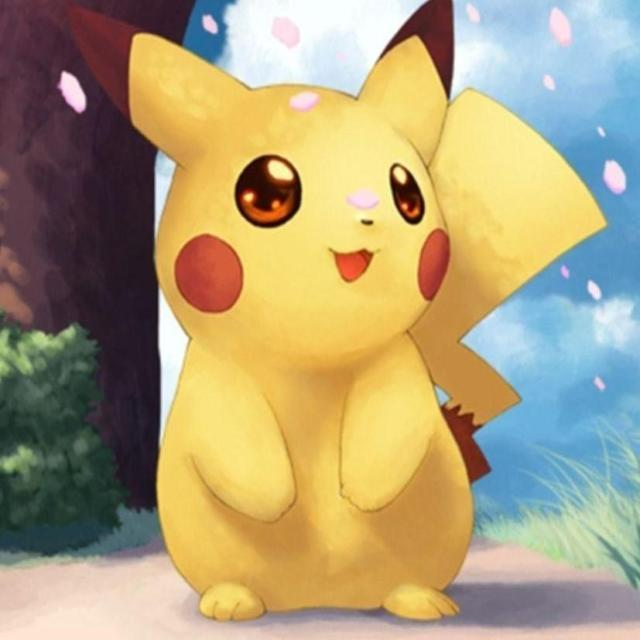pikachu: (67, 0, 607, 619)
